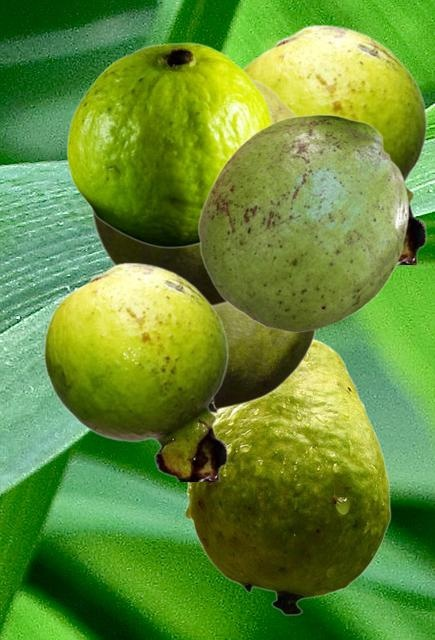guava: (184, 339, 390, 615), (89, 74, 298, 308), (197, 114, 408, 331), (243, 24, 427, 263), (66, 42, 272, 247), (43, 262, 228, 480), (210, 304, 317, 415)
